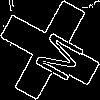M: (25, 25, 85, 84)
